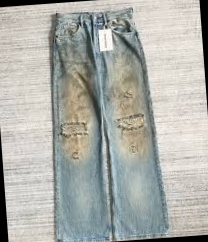earth: (58, 63, 96, 160), (112, 62, 143, 155)
